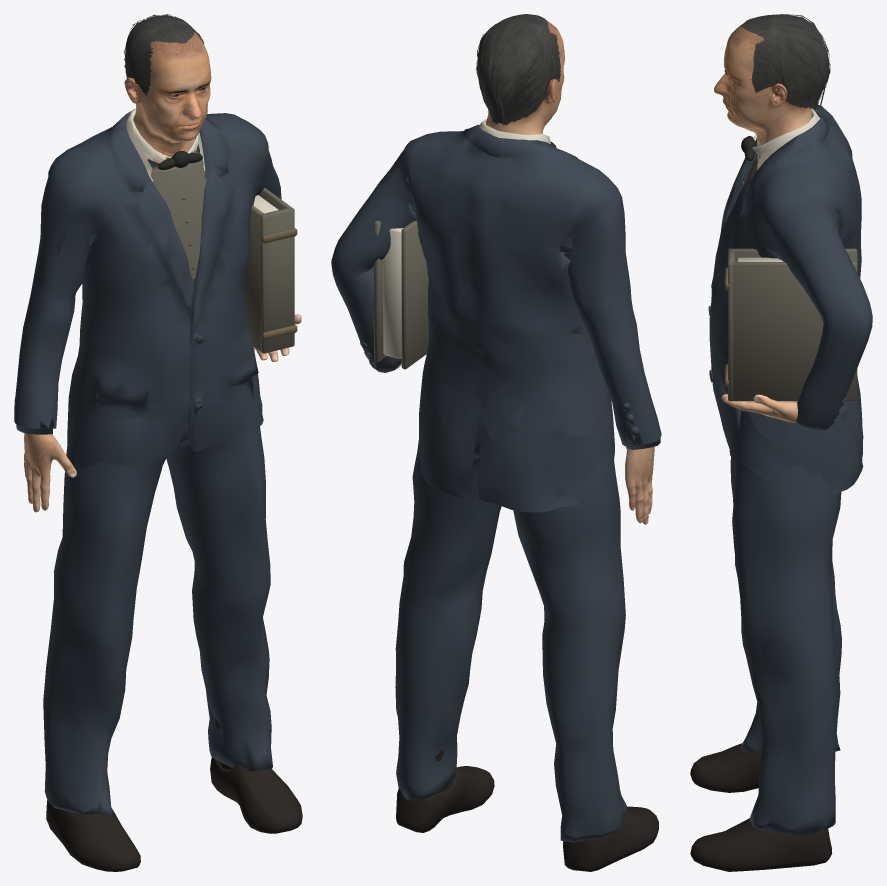
File: workhouse-characters.glb
3 views of the same model, side by side, from view 1: azimuth 30°, elevation 25°; view 2: azimuth 150°, elevation 25°; view 3: azimuth 270°, elevation 25° (orthographic).
Parts seen in each view (by area): view 1: steward_root_Coat, steward_upper_Coat, steward_upper_Waistcoat, steward_root_Boot, steward_head_Skin, steward_upper_Skin, steward_head_Hair, steward_upper_Shirt, steward_upper_Buttons; view 2: steward_upper_Coat, steward_root_Coat, steward_head_Hair, steward_root_Boot, steward_upper_Waistcoat, steward_upper_Shirt, steward_upper_Skin, steward_head_Skin; view 3: steward_root_Coat, steward_upper_Coat, steward_upper_Waistcoat, steward_root_Boot, steward_head_Hair, steward_head_Skin, steward_upper_Skin, steward_upper_Shirt.
Part boxes in pixels (x1,y1,x2,y2): steward_root_Coat: (16,374,272,816); steward_upper_Coat: (14,109,281,429); steward_upper_Waistcoat: (151,150,294,353); steward_root_Boot: (46,719,302,871); steward_head_Skin: (124,32,211,153); steward_upper_Skin: (24,138,301,512); steward_head_Hair: (123,14,203,95); steward_upper_Shirt: (126,108,278,213); steward_upper_Buttons: (182,197,297,340); steward_upper_Coat: (331,124,661,450); steward_root_Coat: (395,393,660,842); steward_head_Hair: (476,14,560,125); steward_root_Boot: (396,750,658,871); steward_upper_Waistcoat: (374,220,428,369); steward_upper_Shirt: (383,119,550,371); steward_upper_Skin: (625,446,654,524); steward_head_Skin: (477,21,564,134); steward_root_Coat: (713,382,863,835); steward_upper_Coat: (708,105,872,442); steward_upper_Waistcoat: (728,153,857,401); steward_root_Boot: (690,743,832,871); steward_head_Hair: (741,14,830,109); steward_head_Skin: (714,24,811,144); steward_upper_Skin: (721,144,797,422); steward_upper_Shirt: (737,108,850,261).
Bounding box in the file's own units: 0.6551 × 1.75 × 0.3595.
Materials: 10 (4 with a texture image).
